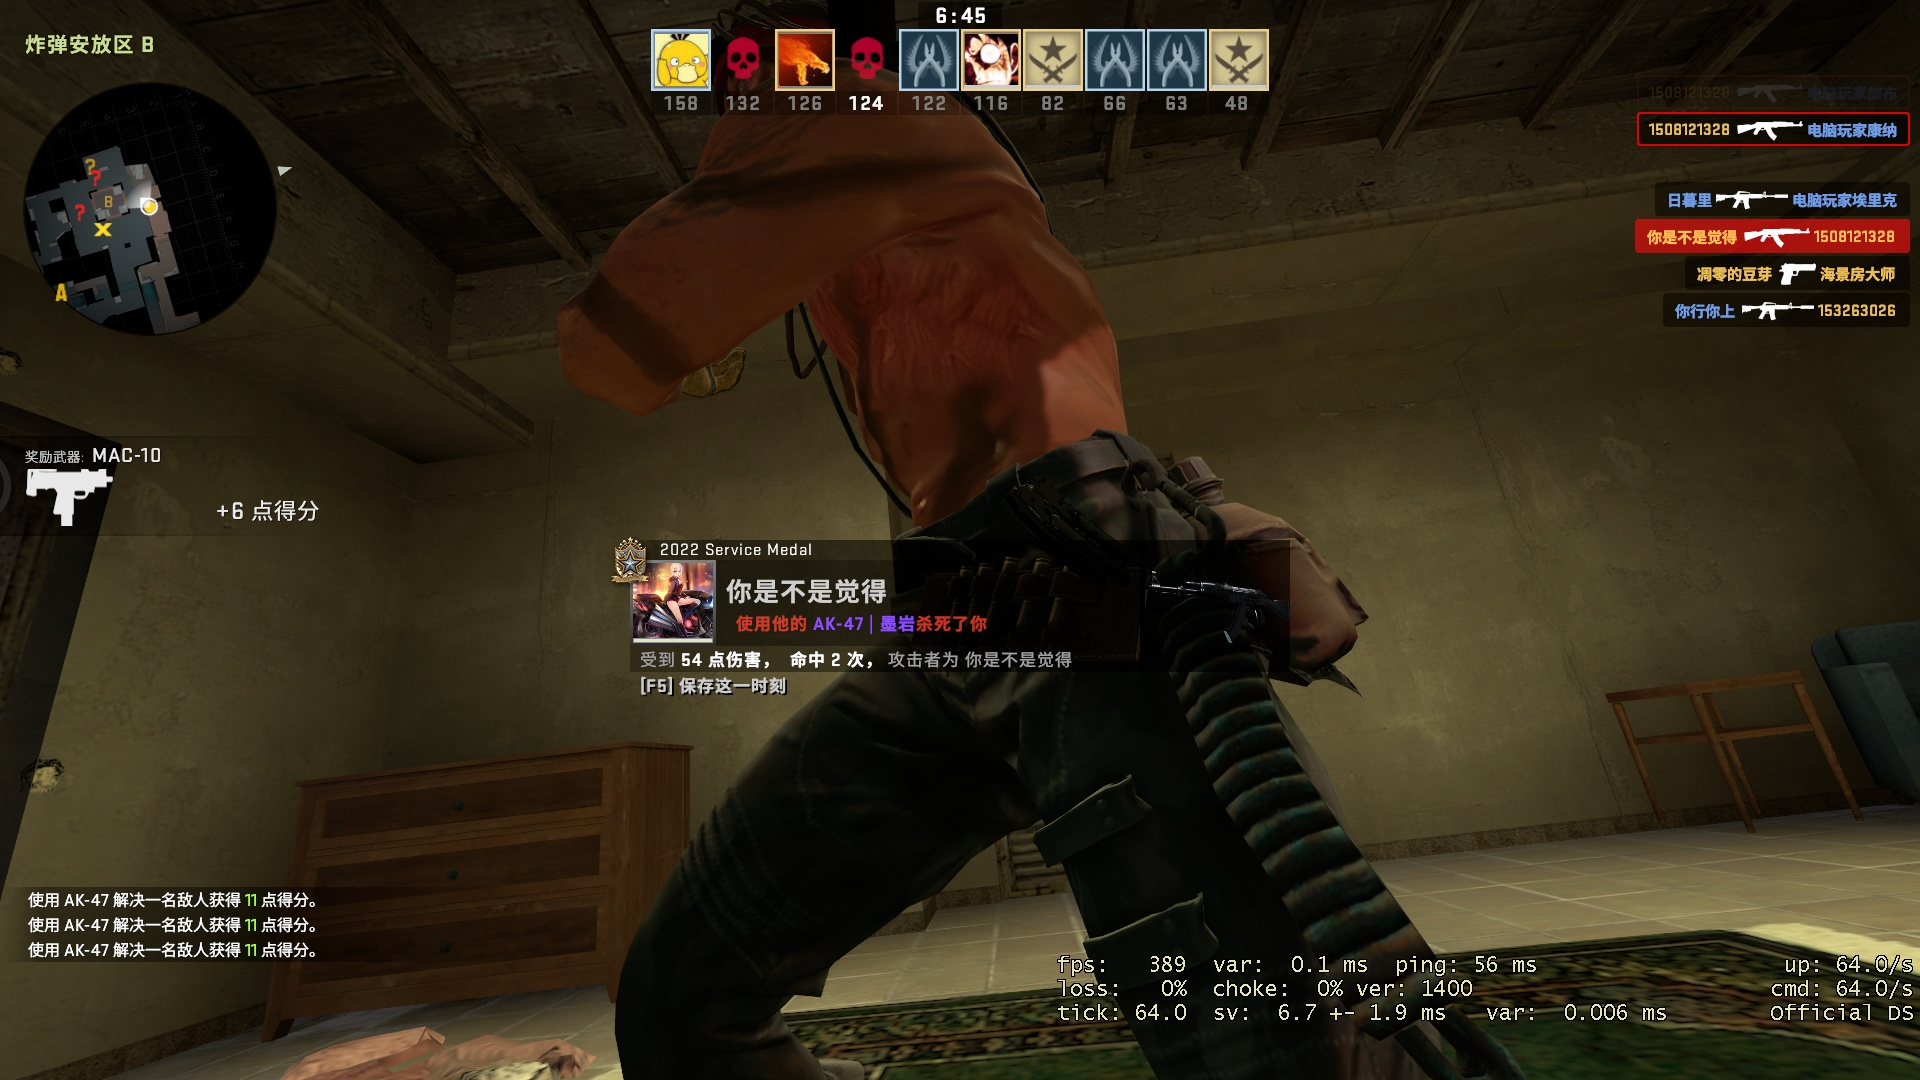body: (568, 65, 1509, 1080)
